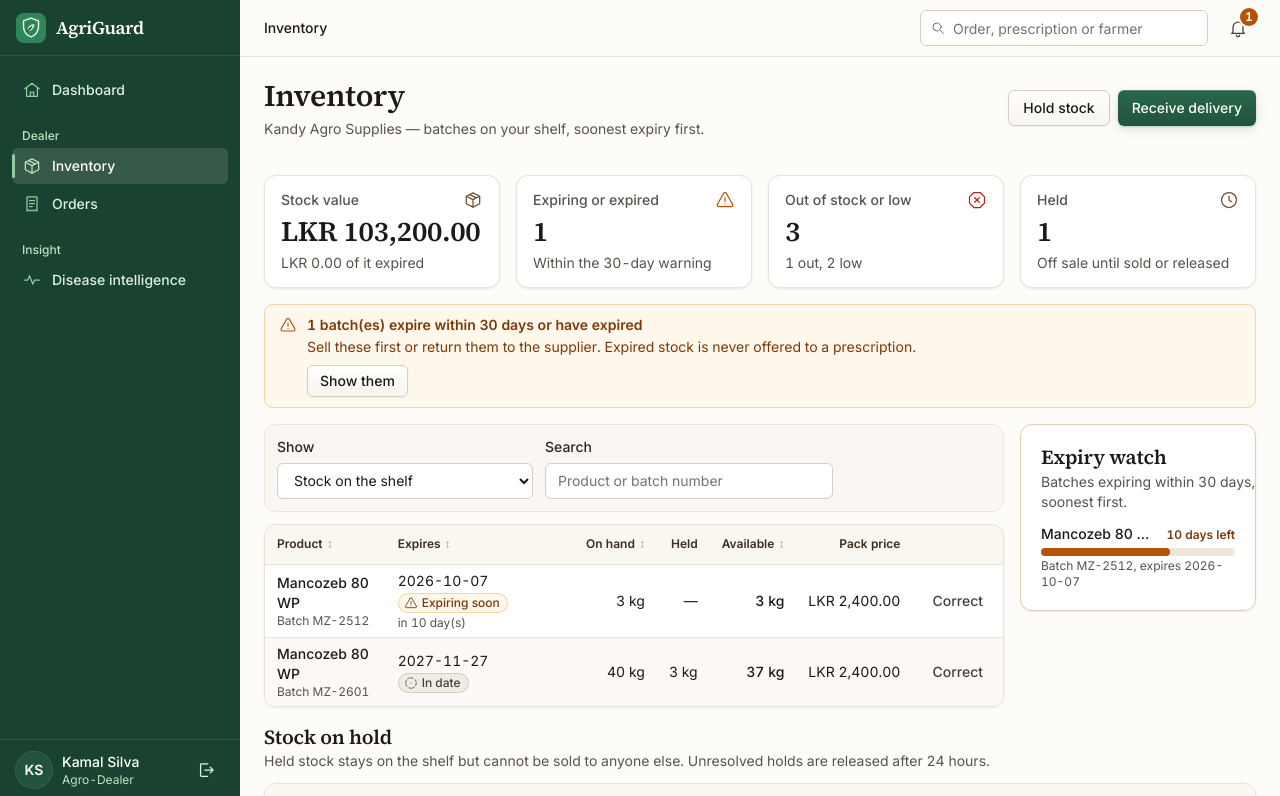
it: InventoryPage › holds stock and shows the shortfall when the shop cannot cover it
Click the button "Hold stock" at [1059, 108], box [1008,90,1110,126]
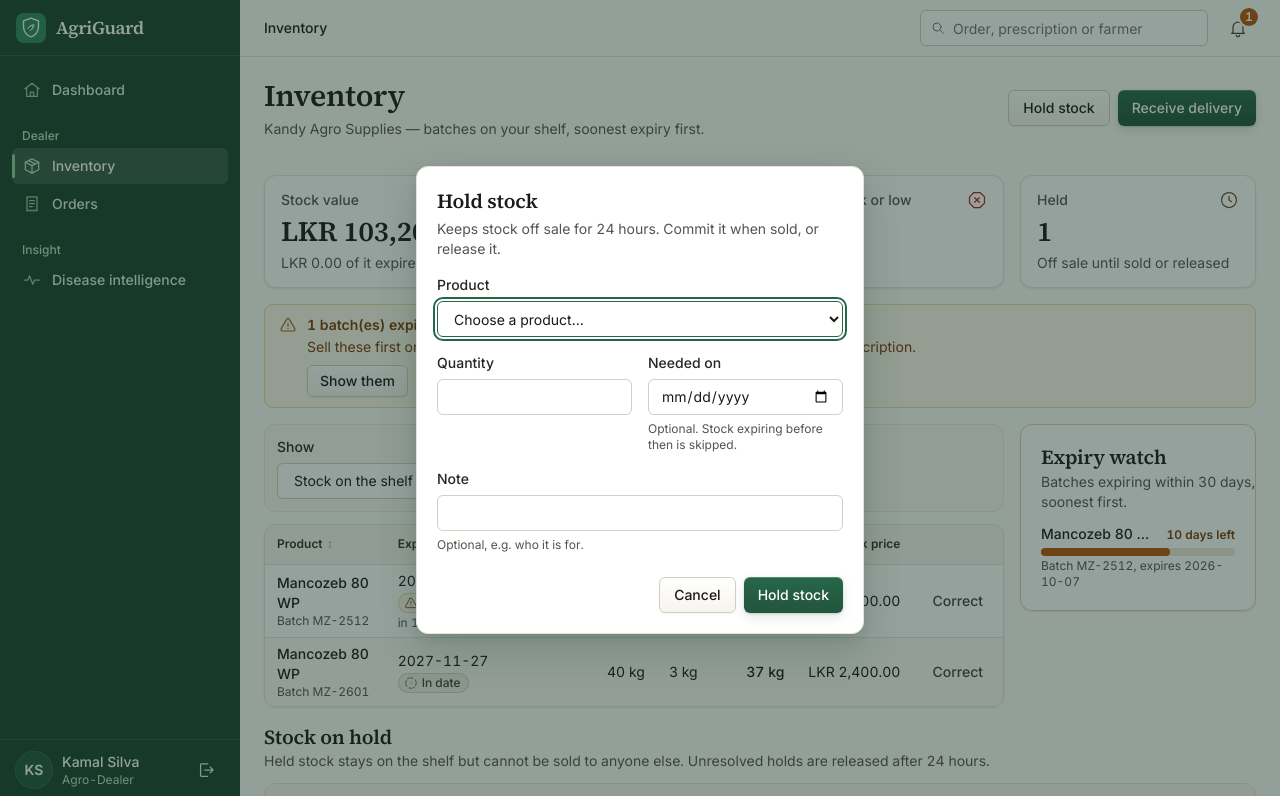
Select "Mancozeb 80 WP" in the dropdown labelled "Product" at [640, 319], box [437,301,843,337]
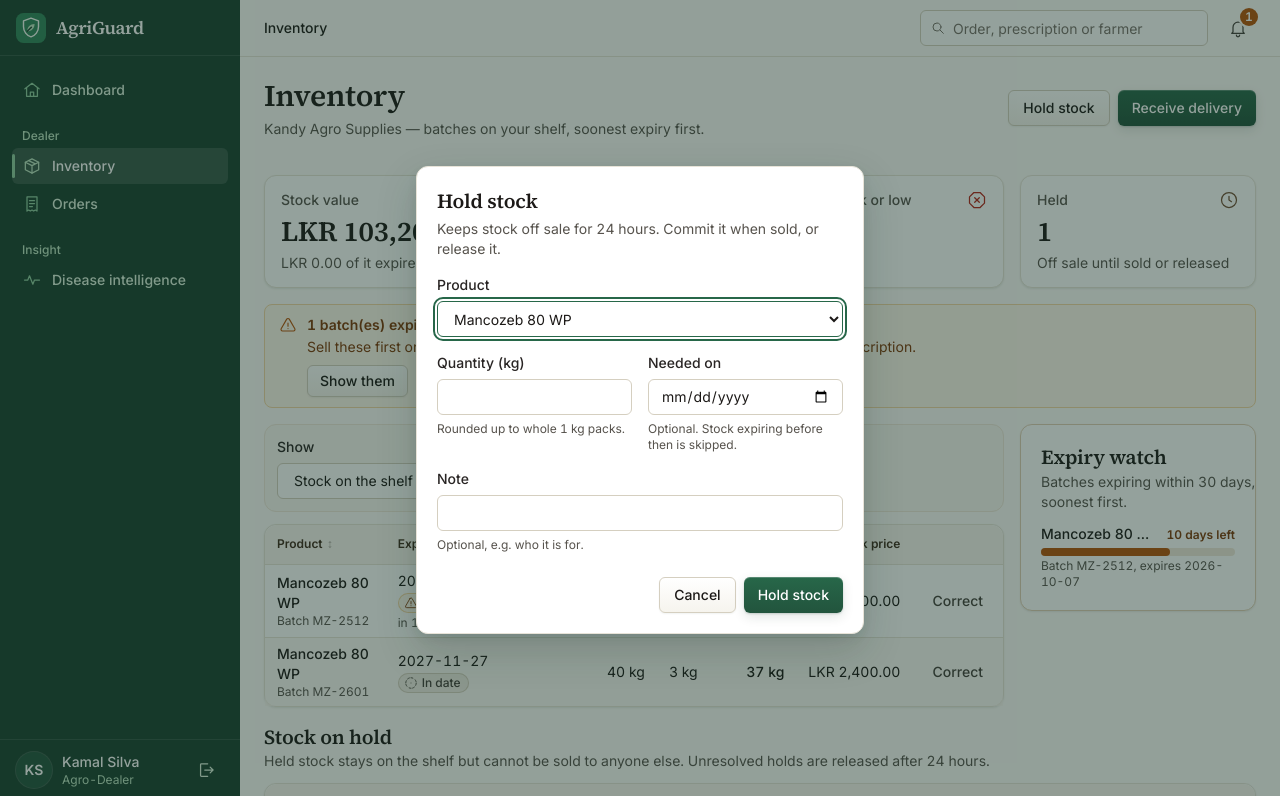
Type "50" into the number field labelled "Quantity (kg)" at [534, 397], box [437,379,632,415]
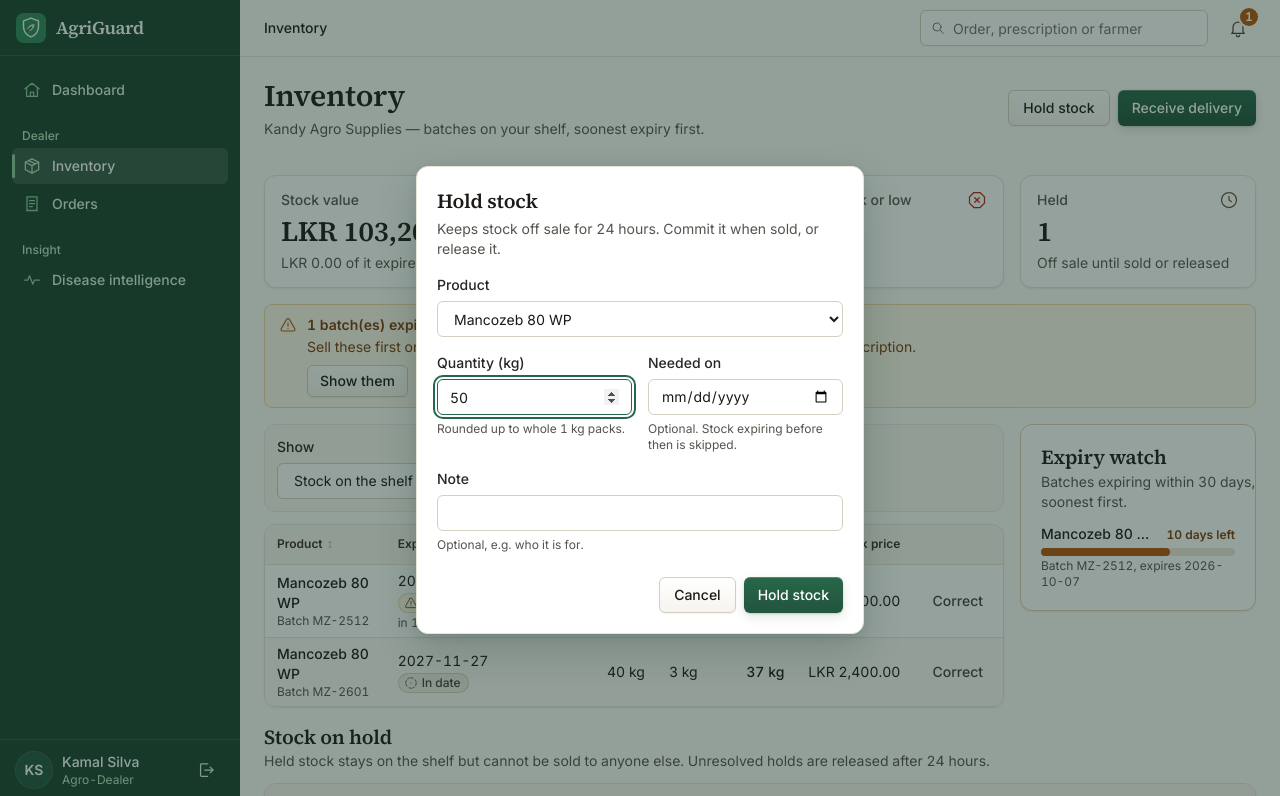
Type "Phone order" into the field labelled "Note" at [640, 513], box [437,495,843,531]
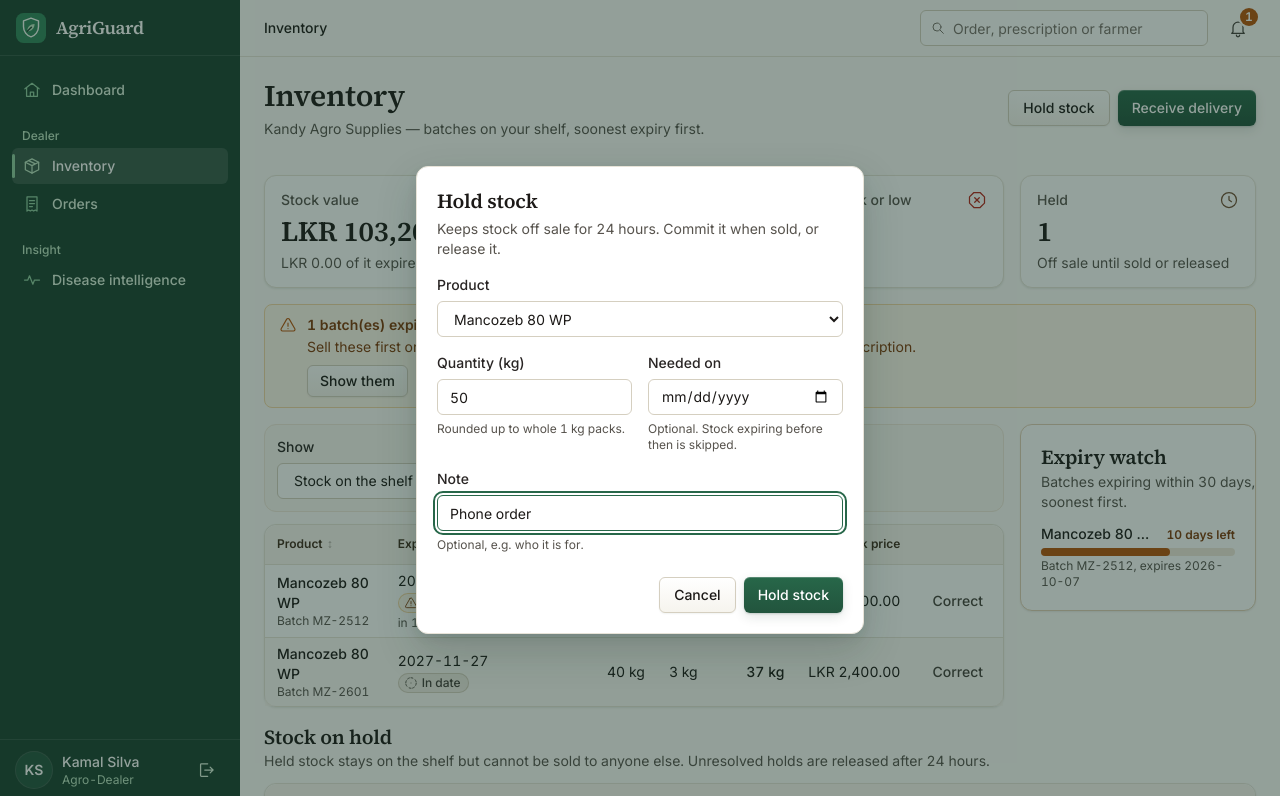
Click the button "Hold stock" at [793, 595], box [744,577,843,613]
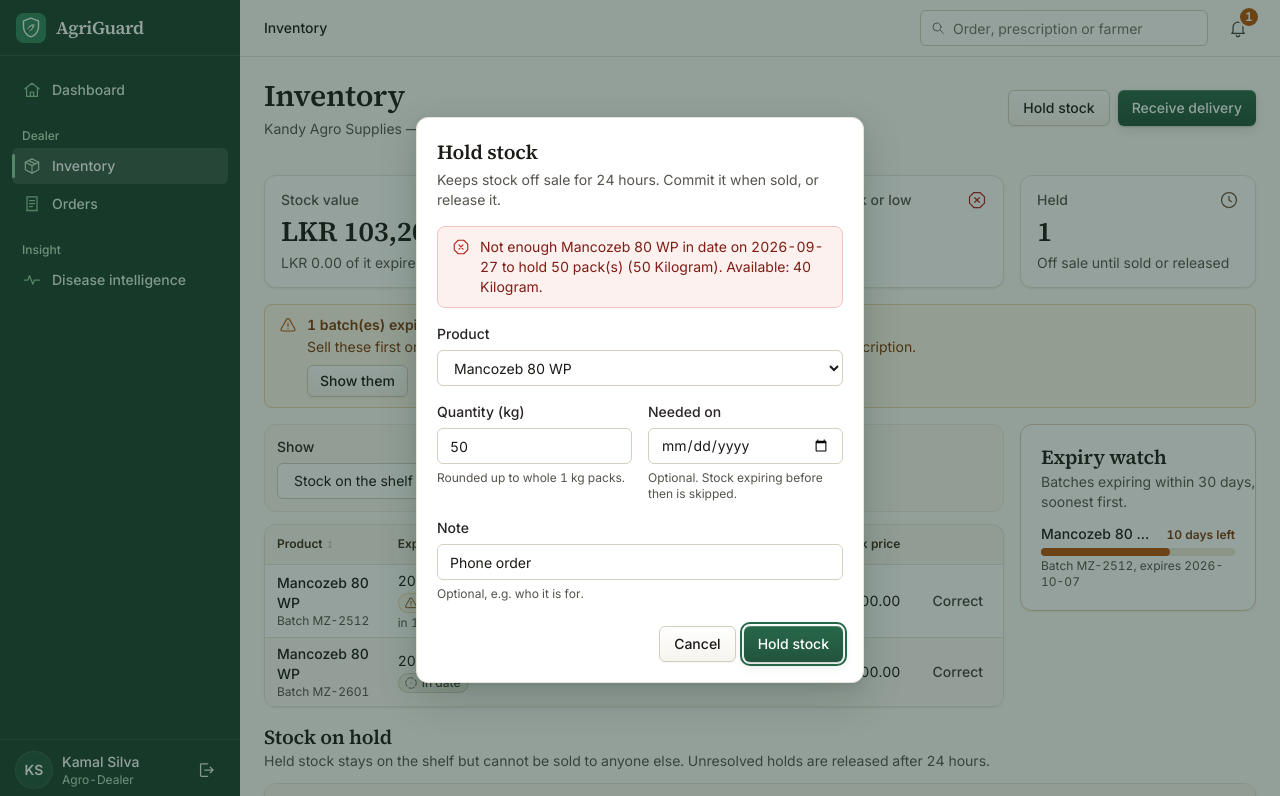
Now the text "Available: 40 Kilogram" is shown, box [480,238,824,295]
